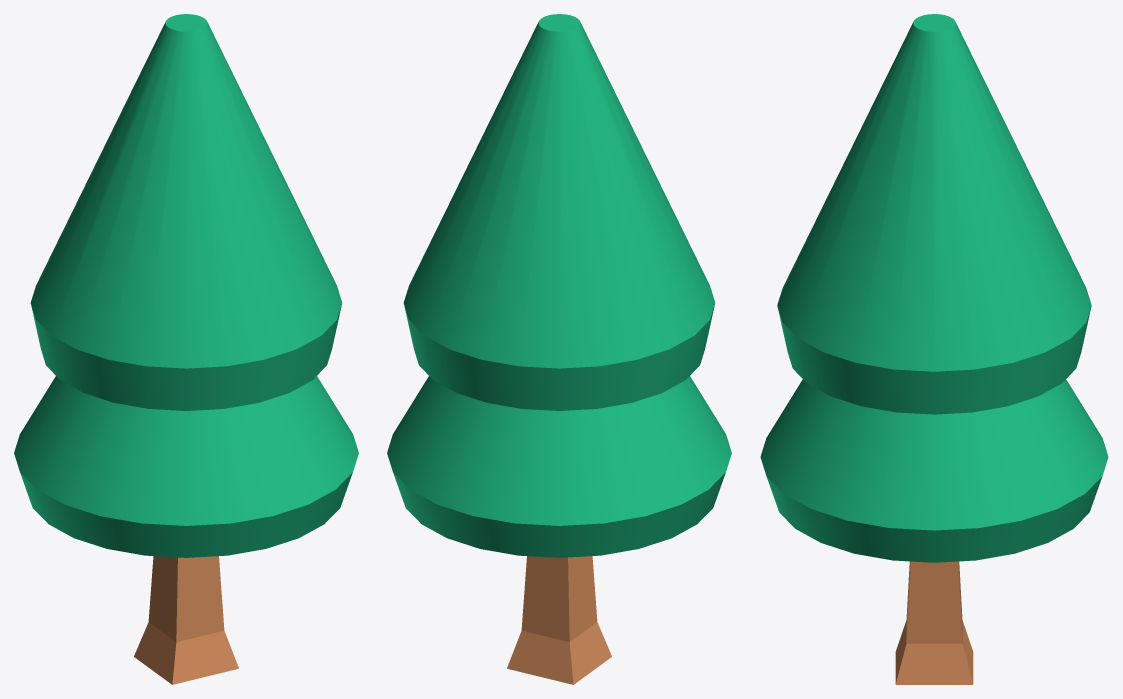
File: treePine.obj
3 renders of one model, left to right at view 1: azimuth 30°, elevation 25°; view 2: azimuth 150°, elevation 25°; view 3: azimuth 270°, elevation 25°, orthographic.
Visible parts, largest first — view 1: treePine; view 2: treePine; view 3: treePine.
Part boxes in pixels (x1=…): treePine: x1=14, y1=14, x2=358, y2=684; treePine: x1=387, y1=14, x2=731, y2=684; treePine: x1=760, y1=14, x2=1108, y2=684.
Bounding box in the file's own units: 0.9485 × 1.94 × 0.9485.
